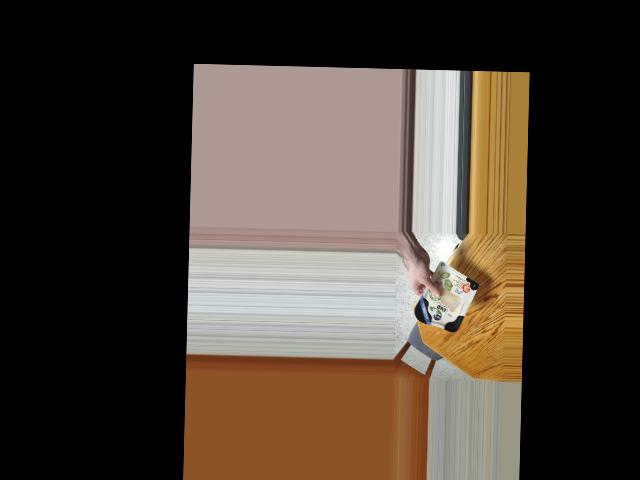cheese: (410, 268, 475, 333)
